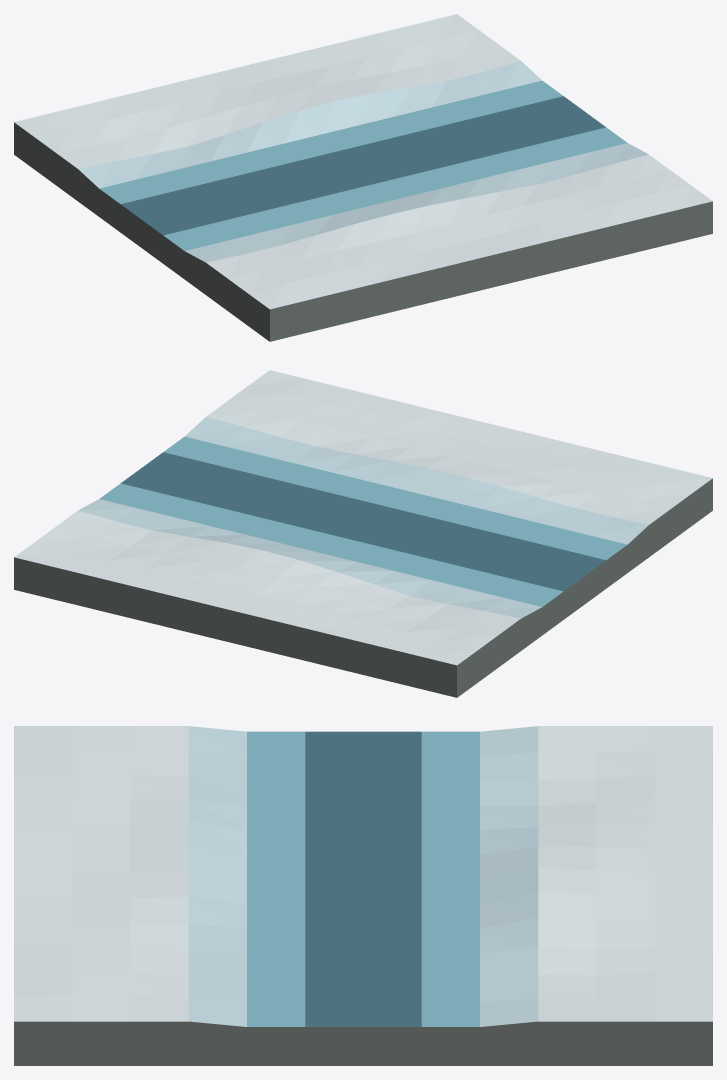
The model's file is ICE_08_StreamStraight.glb.
3 renders of one model, top to bottom at view 1: azimuth 30°, elevation 25°; view 2: azimuth 150°, elevation 25°; view 3: azimuth 270°, elevation 25°, orthographic. The views are drawn at different scales.
Parts seen in each view (by area): view 1: ICE_08_StreamStraight; view 2: ICE_08_StreamStraight; view 3: ICE_08_StreamStraight.
Boxes of the visible parts, x1,y1,x2,y2 form: ICE_08_StreamStraight: [14, 14, 712, 341]; ICE_08_StreamStraight: [14, 370, 712, 697]; ICE_08_StreamStraight: [14, 726, 712, 1065].
Size of the model in its own units: 4 by 0.3247 by 4.
